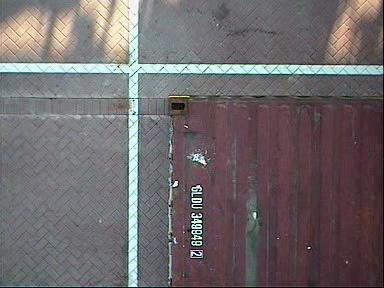groundmarker_2: (168, 137, 228, 226)
